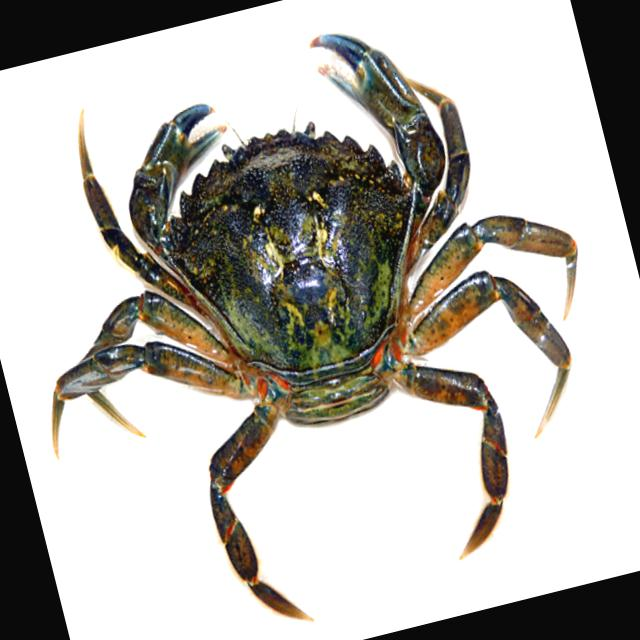green_crab: (51, 35, 576, 618)
